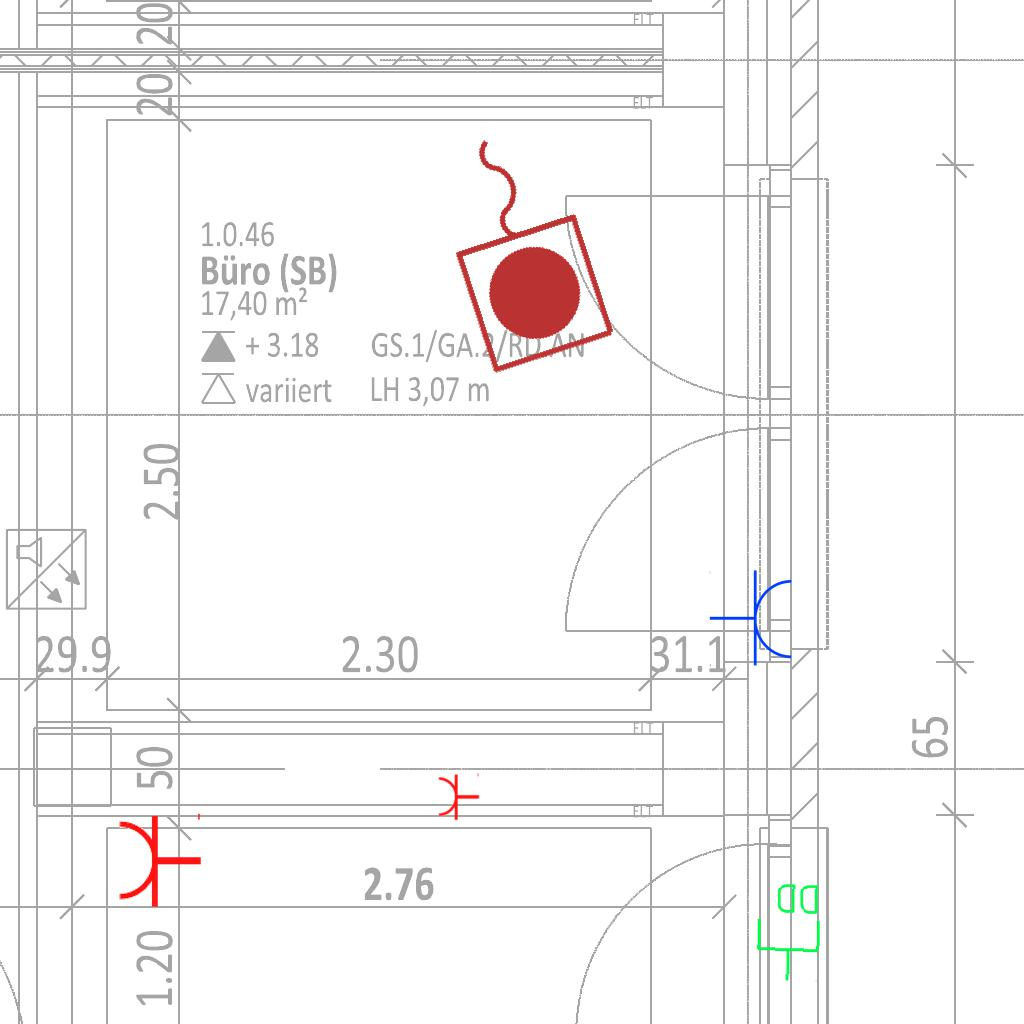Datenanschluss_zweifach: (753, 878, 826, 985)
Schukosteckdose_einfach: (116, 809, 203, 909), (709, 569, 796, 669), (437, 771, 480, 821)
Zugtaster: (414, 106, 628, 384)
